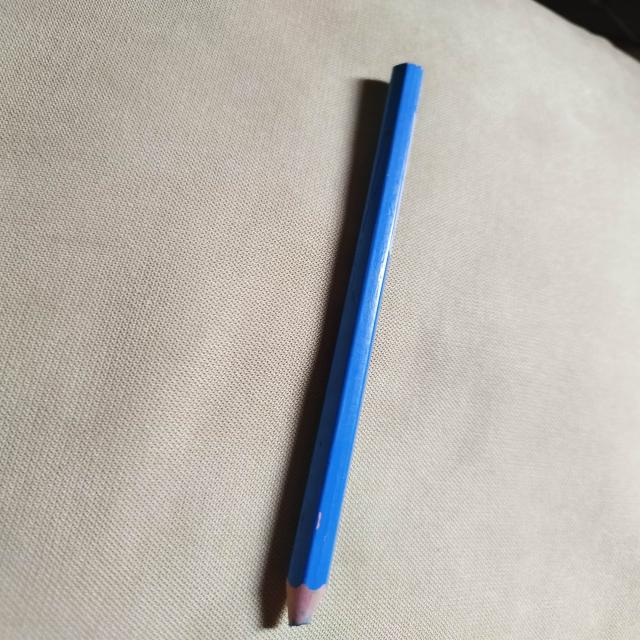pencil: (284, 62, 423, 626)
